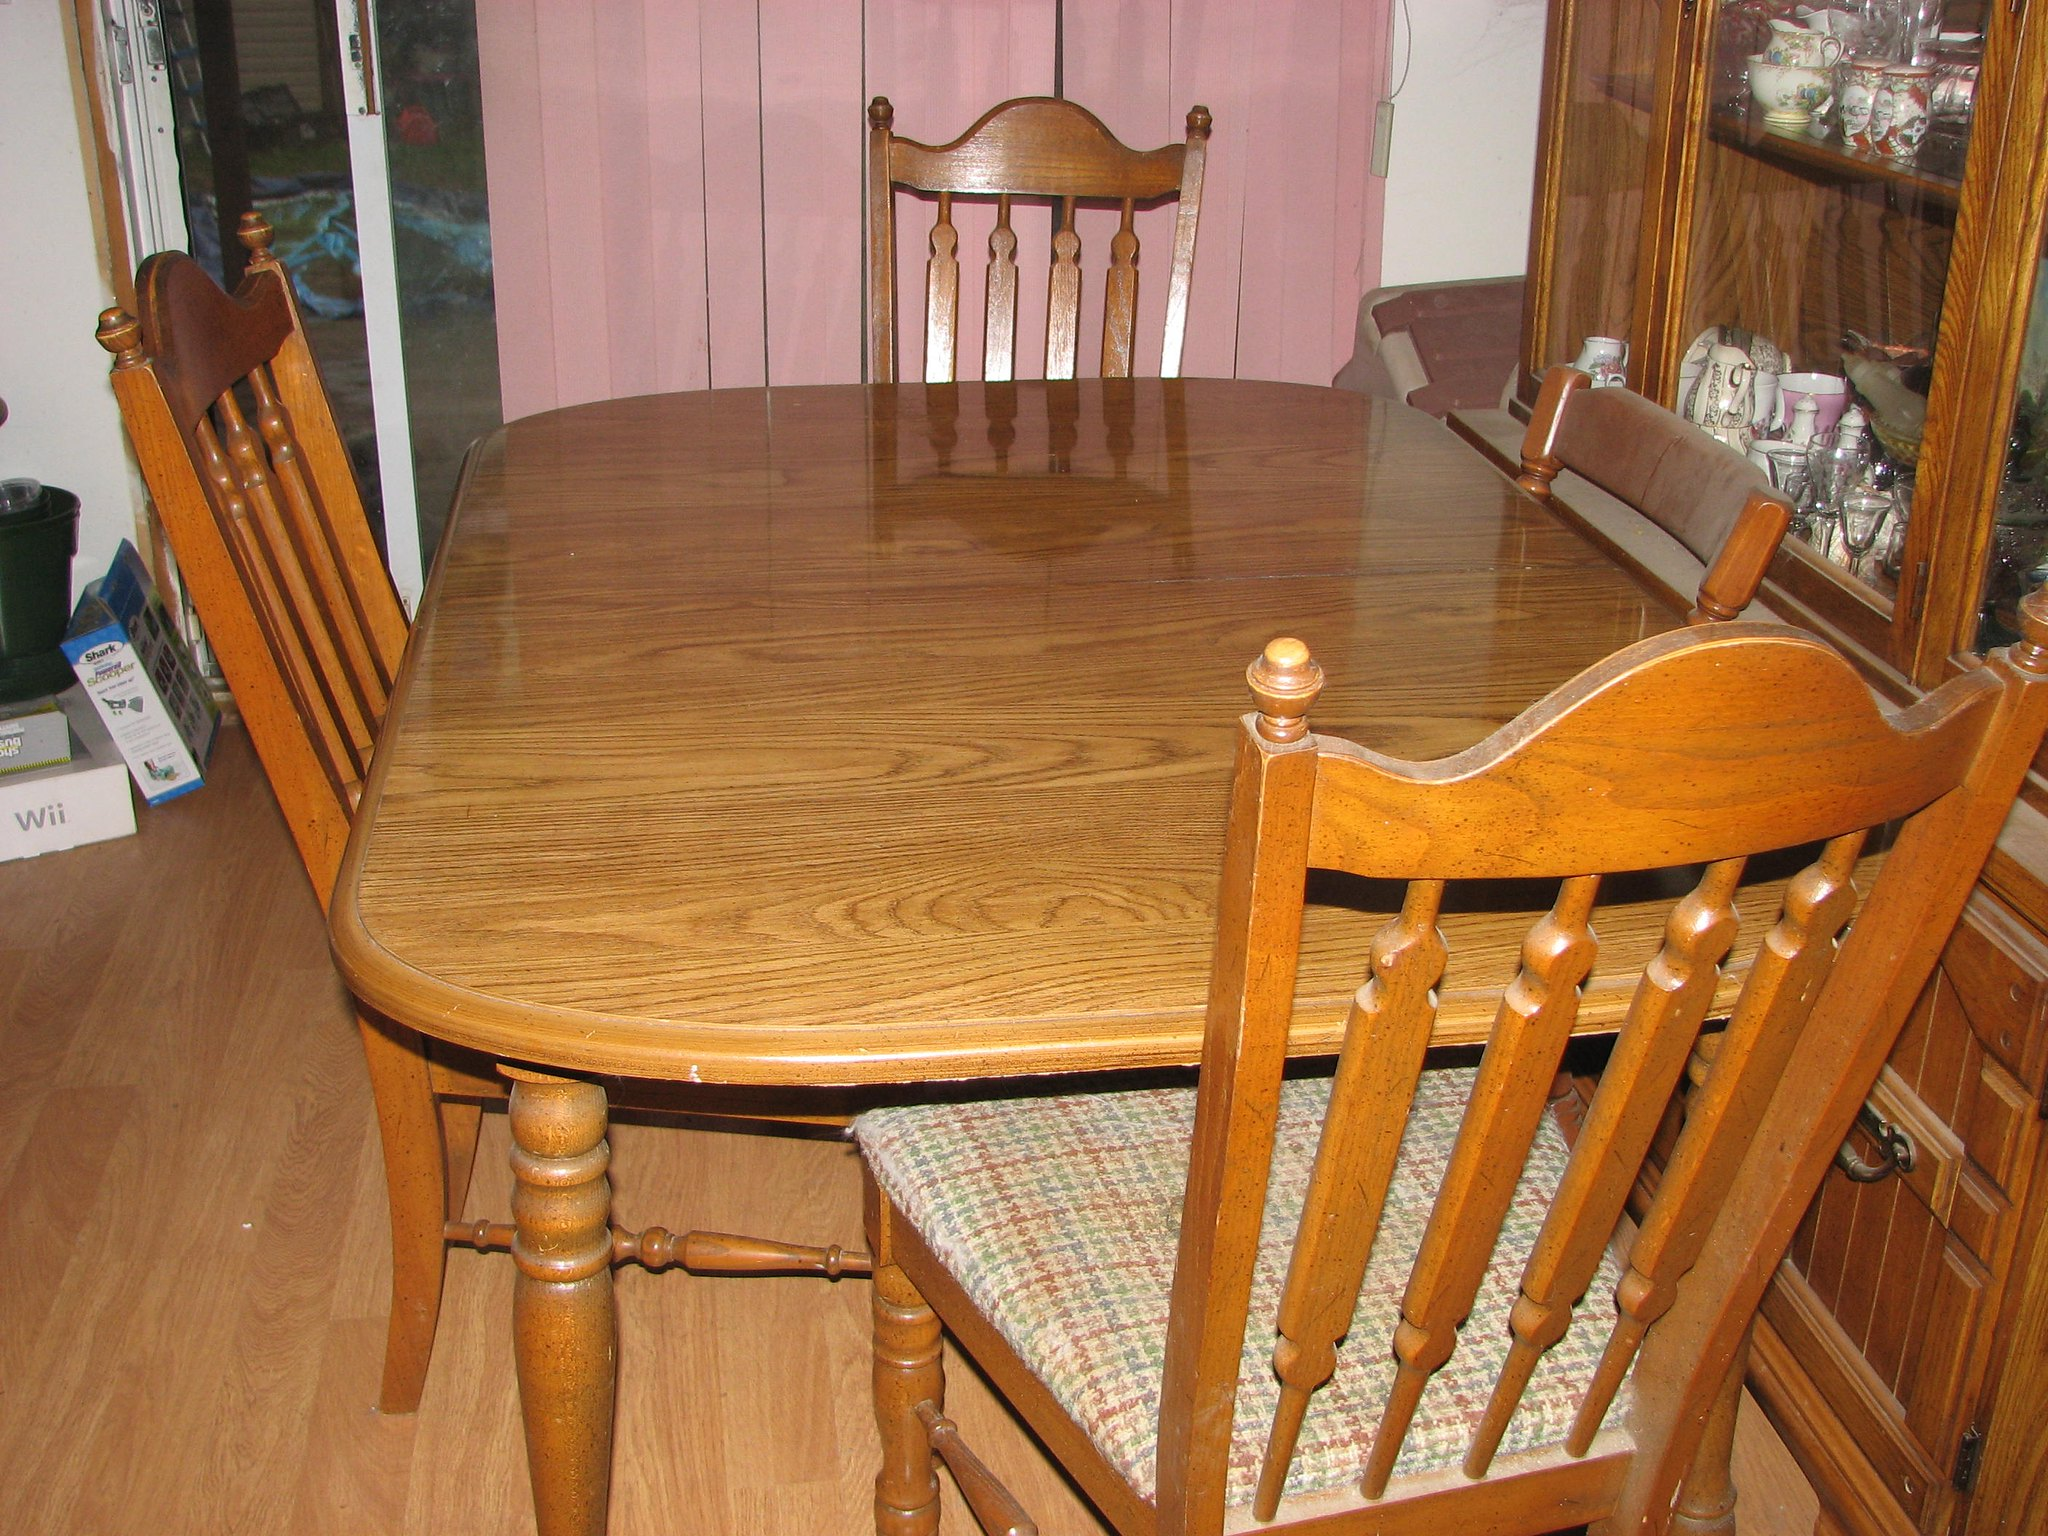dining table: (373, 361, 1809, 1536)
